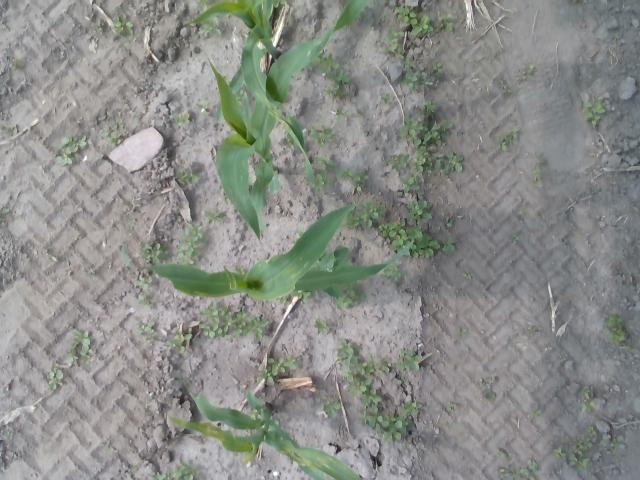Maize: (206, 0, 371, 241), (120, 202, 416, 302), (168, 394, 363, 480), (185, 1, 284, 122)
Weeds: (334, 338, 426, 444), (376, 4, 454, 90), (392, 101, 464, 194), (378, 200, 458, 258), (198, 300, 269, 340), (554, 424, 598, 472), (314, 52, 352, 98), (175, 220, 208, 266), (254, 354, 298, 386), (53, 135, 89, 167), (347, 202, 388, 230), (494, 459, 542, 480), (67, 328, 92, 366), (98, 112, 123, 147), (338, 167, 369, 195), (154, 463, 202, 480), (334, 289, 367, 312), (305, 124, 335, 148), (164, 330, 192, 354), (606, 314, 628, 344), (141, 240, 170, 262), (582, 100, 604, 128), (480, 376, 501, 405), (176, 165, 200, 188), (137, 274, 156, 303), (382, 262, 406, 284), (578, 384, 596, 412), (46, 363, 64, 391), (498, 127, 518, 151), (200, 16, 221, 38), (114, 13, 134, 36), (321, 395, 339, 419), (532, 152, 546, 182), (316, 154, 336, 172), (204, 208, 226, 224), (516, 65, 536, 82), (197, 98, 213, 118), (498, 78, 514, 97), (136, 319, 156, 334), (334, 105, 351, 122), (312, 174, 328, 191), (172, 110, 189, 126), (290, 290, 309, 304), (528, 403, 544, 419), (44, 244, 58, 262), (314, 318, 328, 334), (493, 448, 508, 460), (380, 92, 392, 104), (196, 0, 208, 11), (11, 58, 24, 68), (65, 262, 74, 276), (0, 208, 8, 222), (82, 266, 96, 274), (448, 403, 458, 413), (528, 324, 538, 334), (128, 218, 136, 230), (275, 0, 287, 8), (461, 272, 473, 280), (518, 210, 527, 220), (611, 438, 618, 450), (457, 327, 467, 335), (512, 234, 520, 243)
